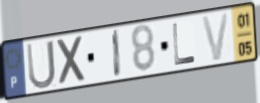8: (129, 24, 159, 76)
I: (111, 28, 123, 80)
L: (171, 21, 198, 67)
U: (25, 38, 58, 92)
V: (200, 10, 231, 63)
X: (55, 33, 88, 88)
